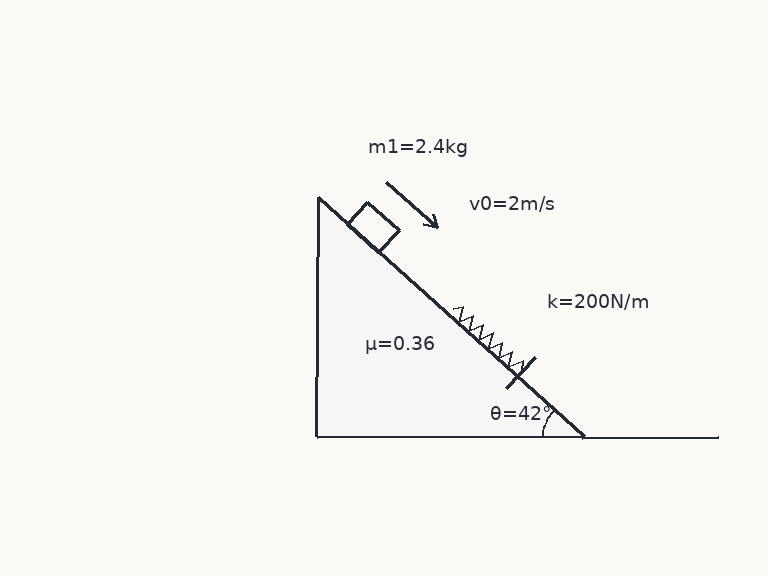block: (345, 200, 400, 254)
ramp: (315, 195, 585, 439)
spring: (451, 305, 525, 372)
